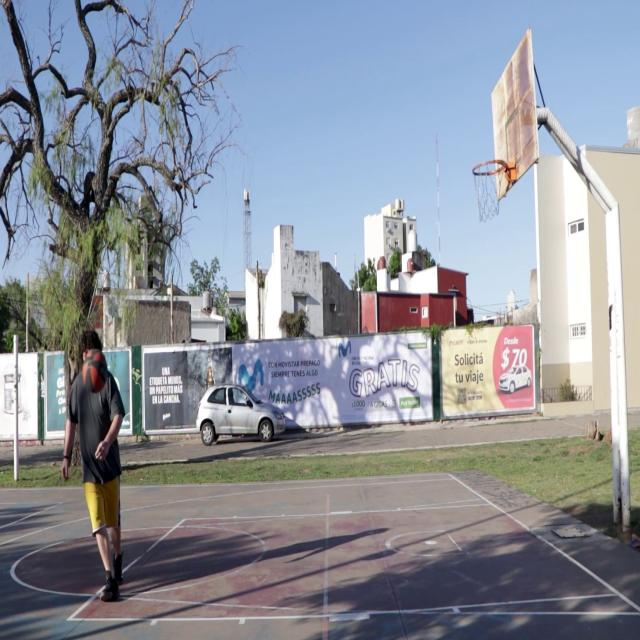ball: (81, 349, 108, 394)
